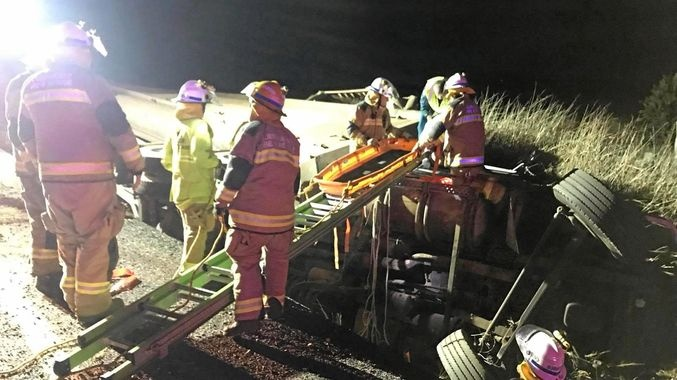red: (46, 22, 92, 67), (518, 338, 566, 380), (250, 79, 286, 119), (178, 78, 208, 114), (443, 73, 471, 95)
white: (368, 77, 395, 110)
